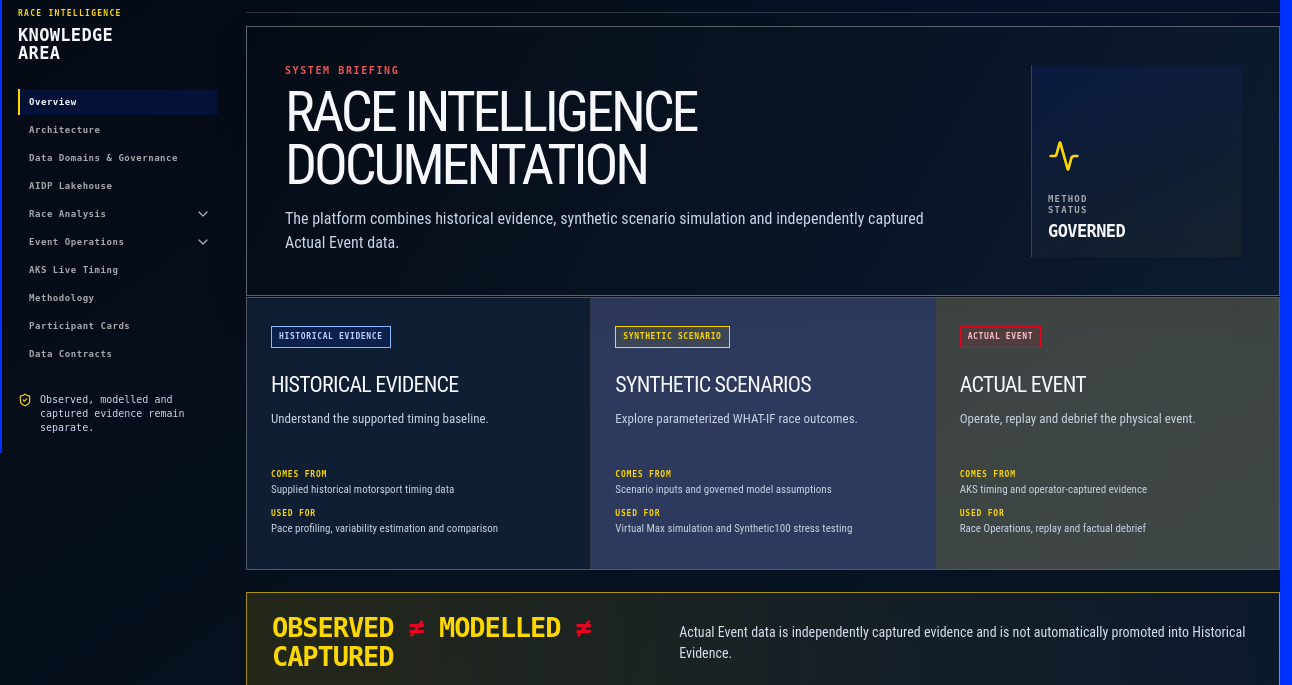
it: DocumentationPage › navigates to an educational AIDP Lakehouse data model without screenshot placeholders
Click the button "AIDP Lakehouse".
click(118, 186)  # box top-left (18, 173), bottom-right (218, 199)
(page scrolled)
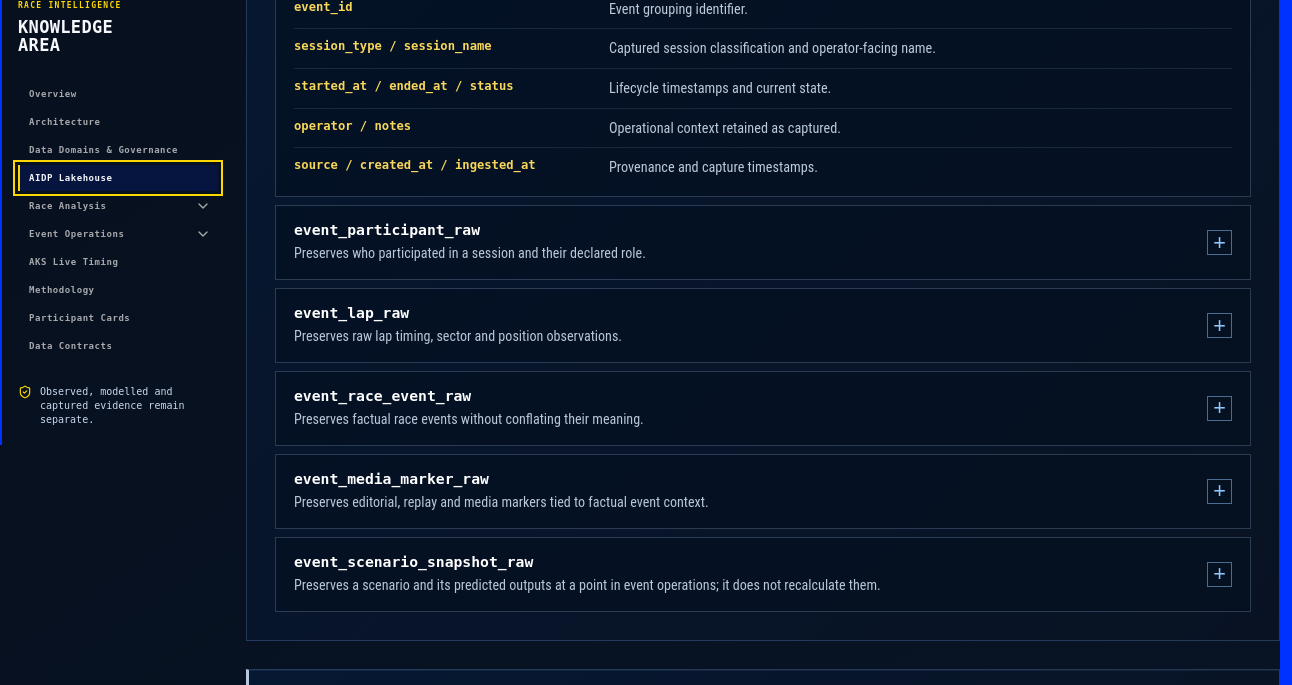
Expected: the button "AIDP Lakehouse" is marked as current, top-left (18, 165), bottom-right (218, 191)
Click the heading that starts with "event_lap_raw".
click(352, 312)  # box top-left (294, 304), bottom-right (1232, 344)
(page scrolled)
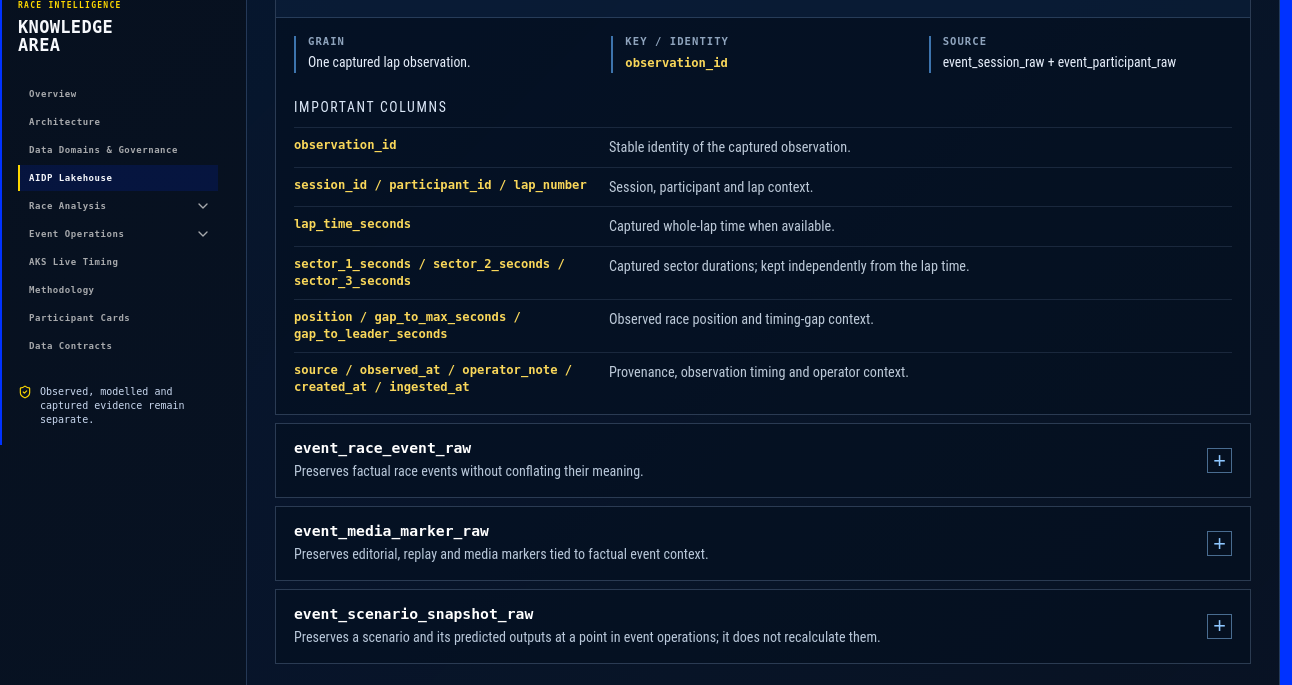
Expected: the text "sector_1_seconds / sector_2_seconds / sector_3_seconds" is shown, top-left (294, 256), bottom-right (594, 290)
Expected: the text "position / gap_to_max_seconds / gap_to_leader_seconds" is shown, top-left (294, 310), bottom-right (521, 341)
